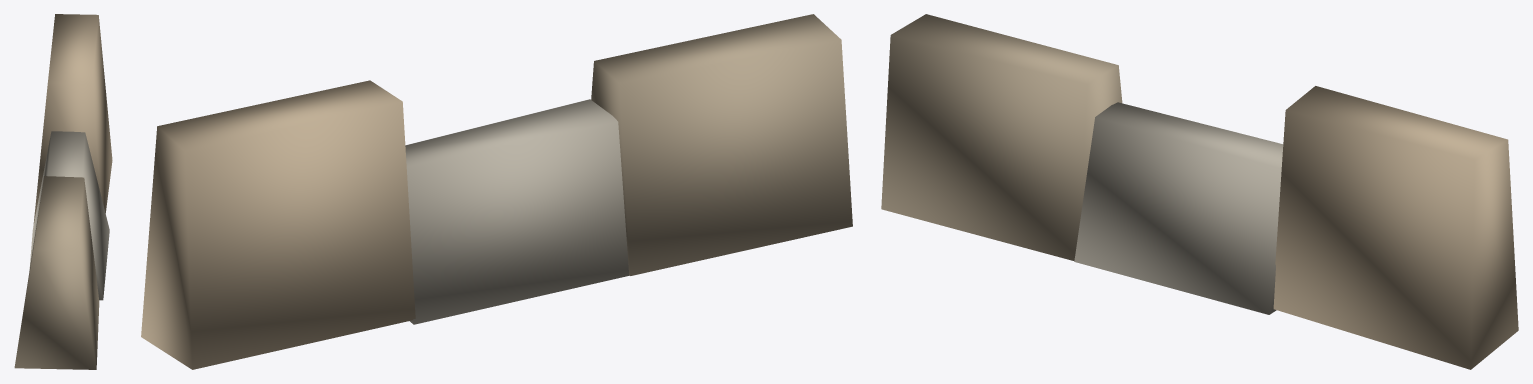
File: farm_-4_16_far.glb
3 views of the same model, side by side, from view 1: azimuth 30°, elevation 25°; view 2: azimuth 150°, elevation 25°; view 3: azimuth 270°, elevation 25° (orthographic). The views are drawn at different scales.
Visible parts, largest first — view 1: geometry_0; view 2: geometry_0; view 3: geometry_0.
Boxes of the visible parts, box(x1,y1,x2,y2) form: geometry_0: box(14, 14, 112, 369); geometry_0: box(141, 14, 852, 369); geometry_0: box(881, 14, 1518, 369).
Size of the model in its own units: 3.17 by 1.54 by 4.38.
